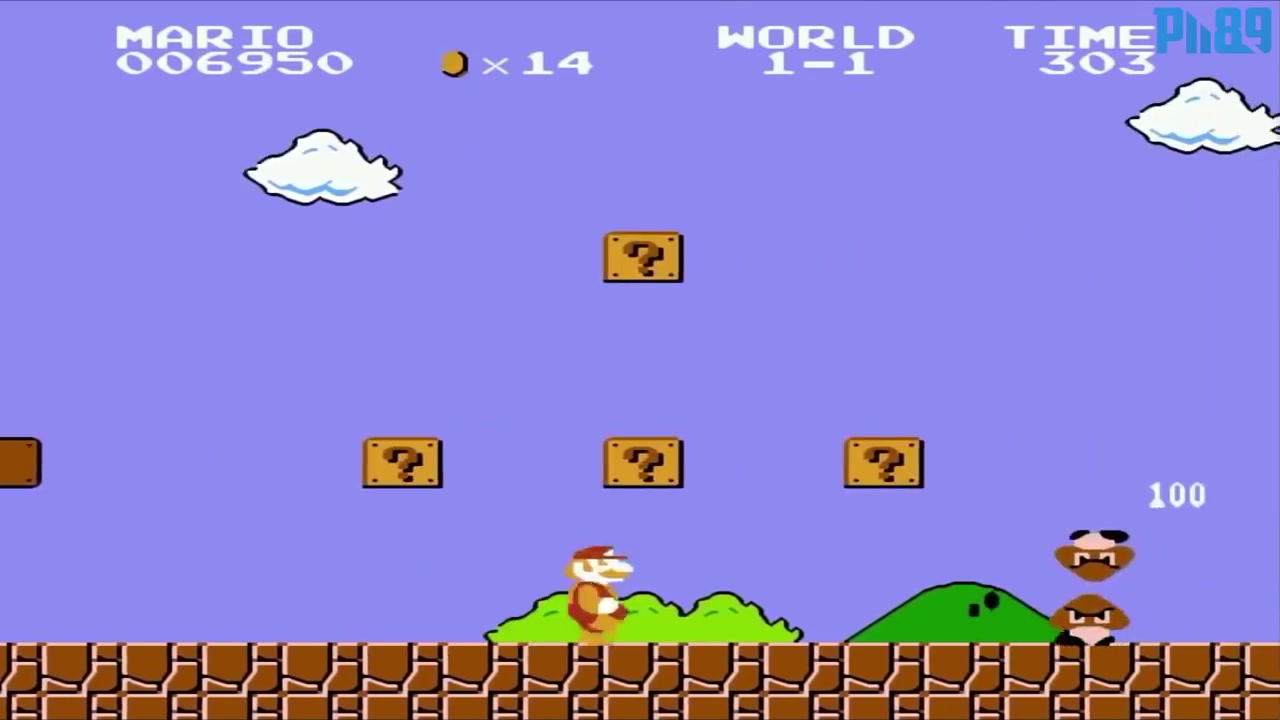mario: (551, 534, 648, 647)
